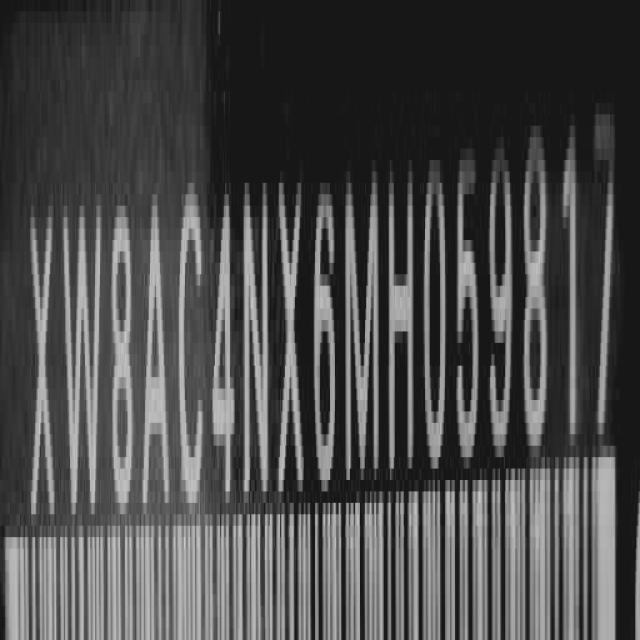0: (423, 144, 448, 480)
1: (560, 108, 581, 458)
4: (212, 177, 238, 519)
5: (454, 156, 480, 482)
6: (313, 168, 340, 498)
7: (592, 101, 616, 428)
8: (522, 126, 550, 464), (112, 196, 136, 520)
9: (487, 136, 514, 469)
A: (144, 187, 173, 522)
C: (180, 184, 208, 518)
H: (389, 152, 417, 487)
M: (344, 157, 383, 491)
N: (244, 166, 271, 514)
W: (62, 190, 101, 535)
X: (24, 200, 56, 543), (278, 159, 306, 509)
